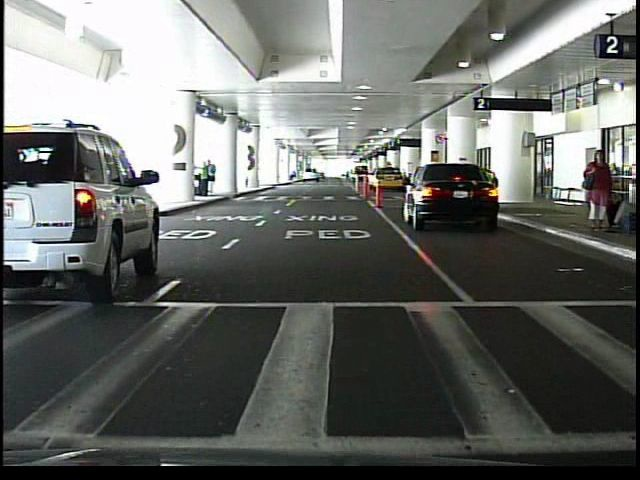person: (580, 151, 615, 233), (588, 154, 601, 207), (197, 161, 210, 199), (207, 160, 217, 197)
